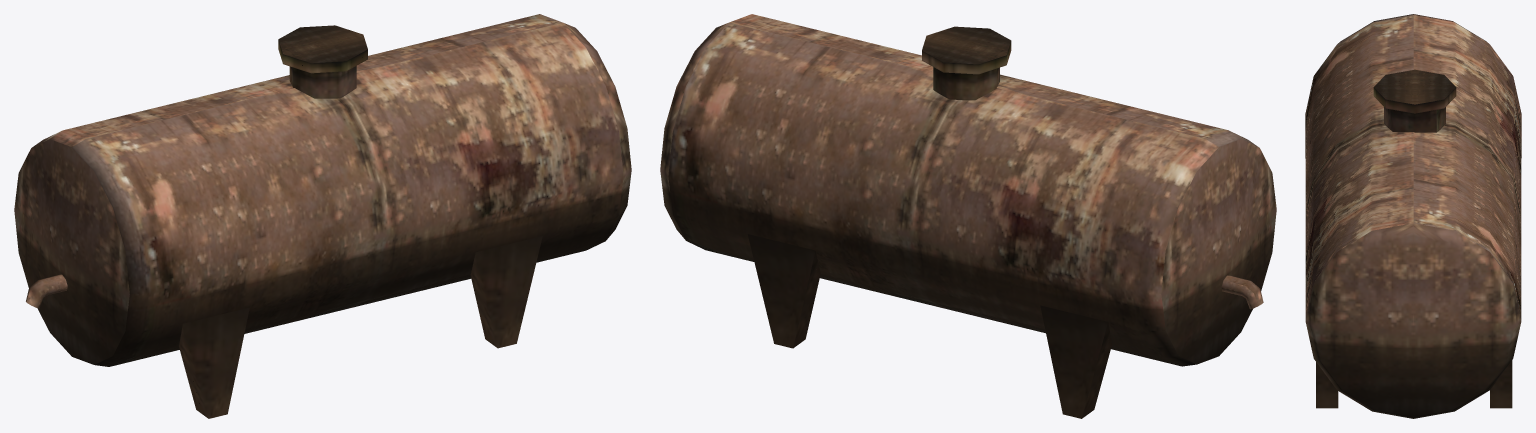
Rendered from WaterTank.fbx.
The picture shows the model from 3 angles, left to right: view 1: azimuth 30°, elevation 25°; view 2: azimuth 150°, elevation 25°; view 3: azimuth 270°, elevation 25°; orthographic projection. The views are drawn at different scales.
Visible parts, largest first — view 1: WaterTank; view 2: WaterTank; view 3: WaterTank.
Part boxes in pixels (left/top/right/bottom): WaterTank: left=14, top=14, right=631, bottom=418; WaterTank: left=660, top=14, right=1276, bottom=418; WaterTank: left=1305, top=14, right=1521, bottom=418.
Size of the model in its own units: 335 by 167 by 125.
